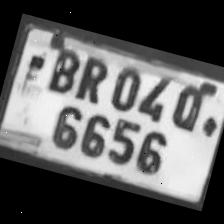0: (103, 58, 146, 113)
4: (132, 66, 178, 123)
5: (102, 110, 143, 166)
6: (130, 121, 174, 178), (44, 97, 86, 154), (74, 105, 114, 159)
B: (42, 41, 85, 98)
Q: (164, 74, 212, 132)
R: (70, 49, 113, 104)
